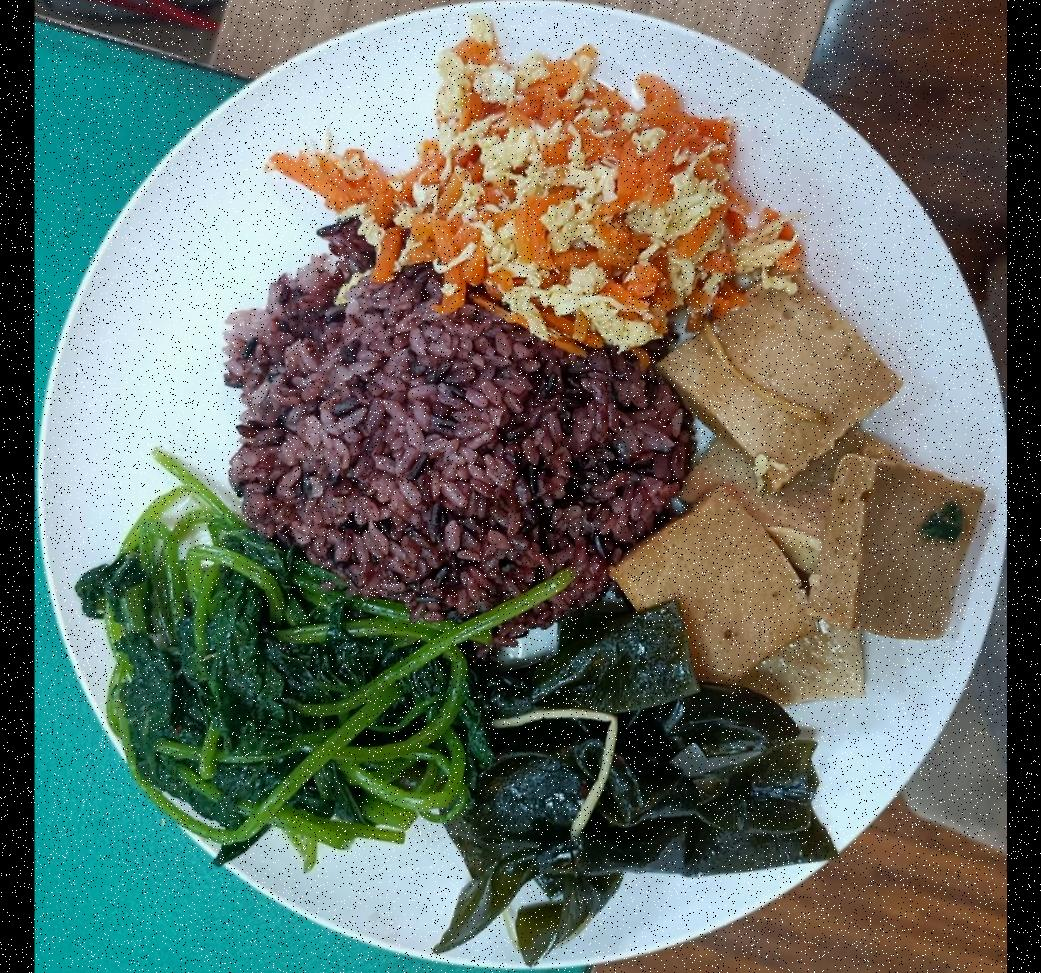big fried chicken leg: (34, 0, 1004, 968)
braised fish: (214, 255, 688, 607)
braised fish fillet: (270, 36, 800, 344), (614, 263, 980, 692), (424, 606, 837, 965), (74, 529, 474, 866)
